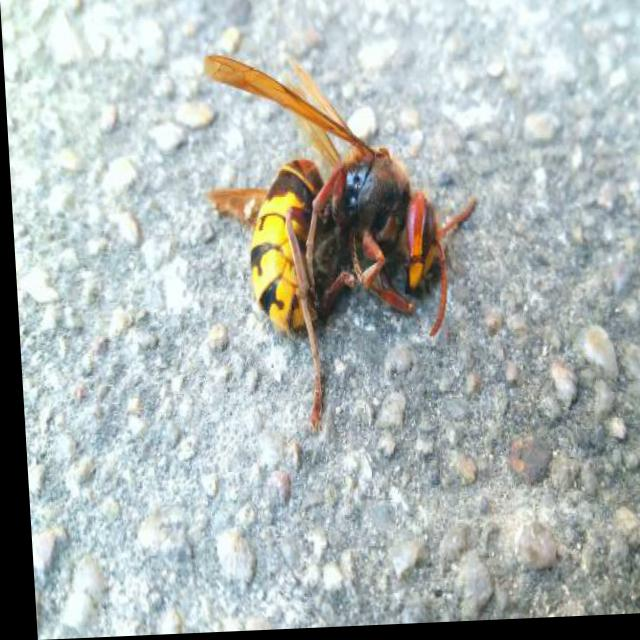Vespa Crabro: (175, 27, 494, 426)
